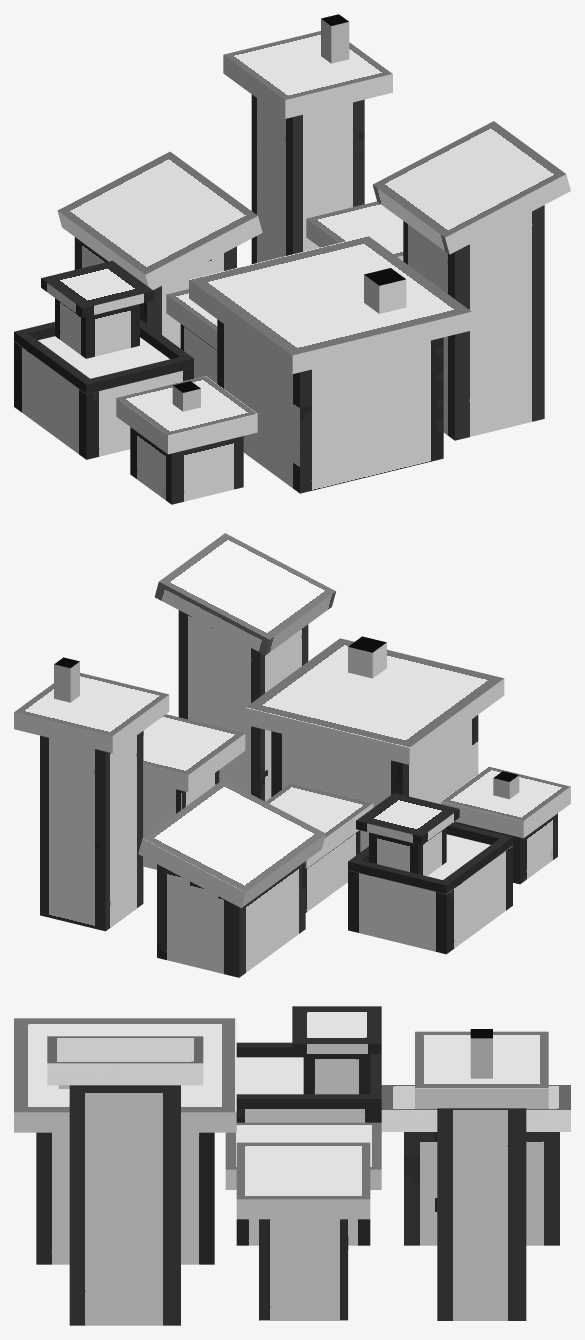
The model's file is Hovels.glb.
3 views of the same model, one above another, from view 1: azimuth 30°, elevation 25°; view 2: azimuth 150°, elevation 25°; view 3: azimuth 270°, elevation 25° (orthographic). The views are drawn at different scales.
Parts seen in each view (by area): view 1: cube.023, cube.022, cube.009, cube.020, cube.008, cube.006, cube.014, cube.005, cube.002, cube.003, cube.019, cube.015 (+8 smaller); view 2: cube.022, cube.006, cube.020, cube.008, cube.009, cube.021, cube.014, cube.023, cube.005, cube.001, cube.002, cube.012 (+9 smaller); view 3: cube.009, cube.006, cube.022, cube.001, cube.005, cube, cube.023, cube.008, cube.021, cube.014, cube.015, cube.012 (+5 smaller).
Part boxes in pixels (<box>): cube.023: <box>217,319,443,493</box>; cube.022: <box>189,236,471,374</box>; cube.009: <box>403,205,544,440</box>; cube.020: <box>57,151,262,289</box>; cube.008: <box>372,121,570,254</box>; cube.006: <box>251,94,364,263</box>; cube.014: <box>14,336,193,459</box>; cube.005: <box>223,31,392,118</box>; cube.002: <box>116,376,257,454</box>; cube.003: <box>130,427,243,504</box>; cube.019: <box>14,319,193,393</box>; cube.015: <box>41,261,153,317</box>; cube.022: <box>245,638,504,764</box>; cube.006: <box>40,731,143,931</box>; cube.020: <box>138,779,325,907</box>; cube.008: <box>154,533,335,655</box>; cube.009: <box>178,610,308,801</box>; cube.021: <box>157,861,305,977</box>; cube.014: <box>348,834,512,954</box>; cube.023: <box>271,715,478,852</box>; cube.005: <box>14,672,169,753</box>; cube.001: <box>143,714,245,792</box>; cube.002: <box>441,766,570,838</box>; cube.012: <box>265,783,373,868</box>; cube.009: <box>69,1085,180,1325</box>; cube.006: <box>437,1108,526,1320</box>; cube.022: <box>14,1018,236,1132</box>; cube.001: <box>236,1142,370,1219</box>; cube.005: <box>415,1031,548,1108</box>; cube: <box>259,1219,348,1320</box>; cube.023: <box>36,1132,214,1264</box>; cube.008: <box>47,1036,203,1085</box>; cube.021: <box>404,1132,559,1245</box>; cube.014: <box>236,1057,381,1122</box>; cube.015: <box>292,1006,381,1053</box>; cube.012: <box>225,1122,381,1189</box>.
Size of the model in its own units: 2.8 by 1.75 by 3.12.
Materials: 4 (2 with a texture image).
